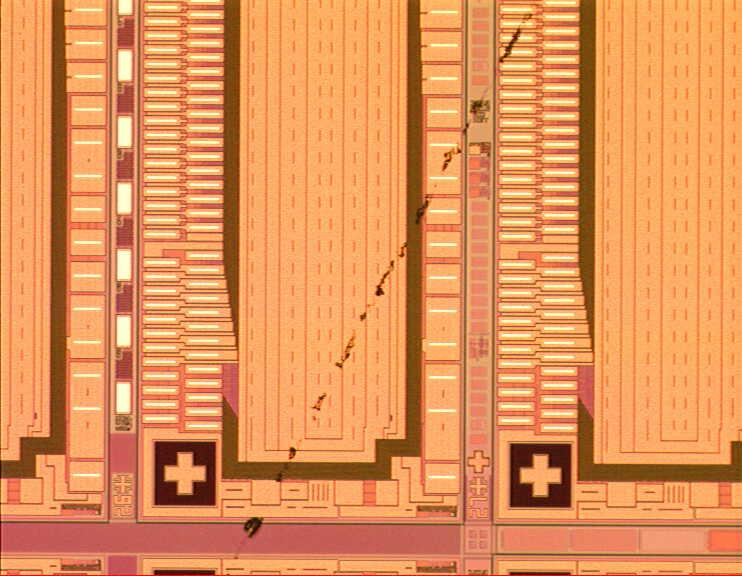SCRATCH: (215, 1, 548, 576)
